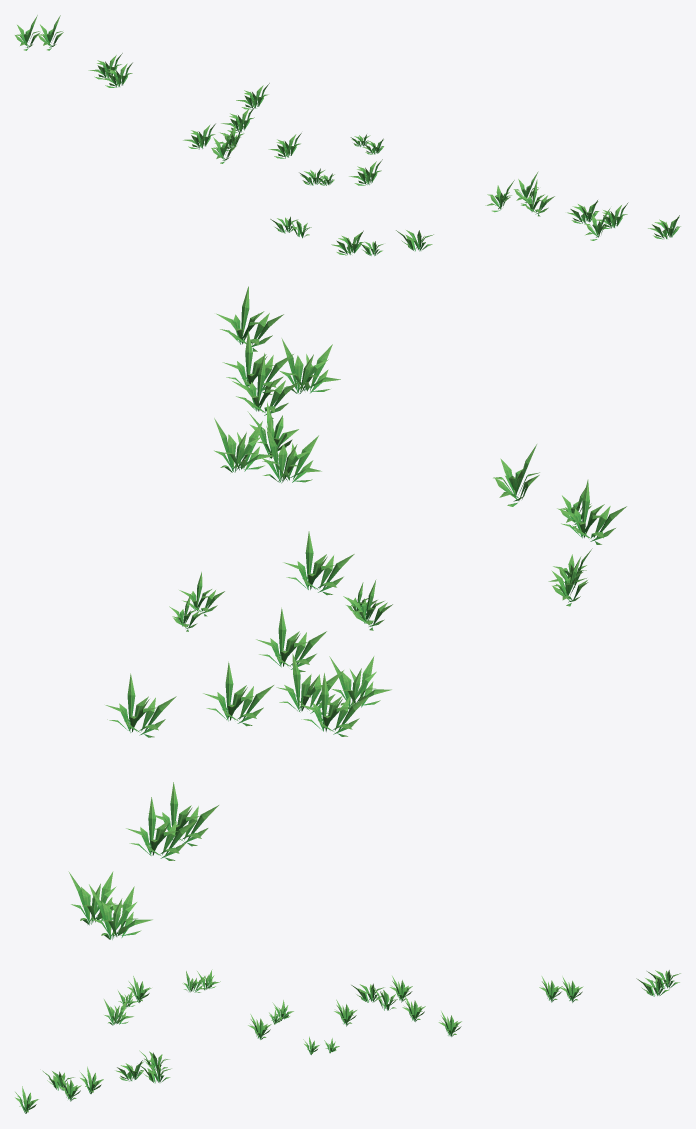
File: Area_06_17.fbx
The picture shows the model from 3 angles, top to bottom: view 1: azimuth 30°, elevation 25°; view 2: azimuth 150°, elevation 25°; view 3: azimuth 270°, elevation 25°; orthographic projection. The views are drawn at different scales.
Visible parts, largest first — view 1: Area_06_17; view 2: Area_06_17; view 3: Area_06_17.
Boxes of the visible parts, box(x1,y1,x2,y2) form: Area_06_17: box(15, 15, 680, 255); Area_06_17: box(68, 286, 626, 939); Area_06_17: box(15, 969, 680, 1113).
Size of the model in its own units: 1100 by 93.02 by 2266.
